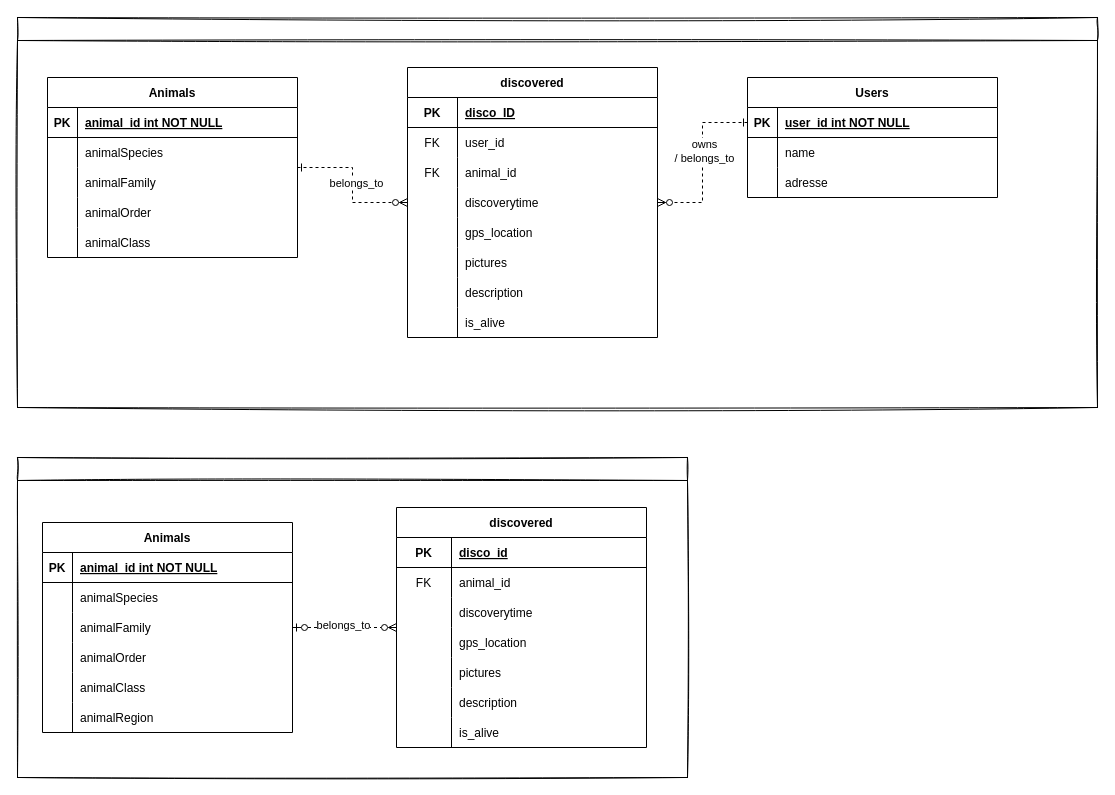
The diagram is 1115 pixels wide and 795 high, and some of its shapes have lost their labels. The box of each missing label's shape, as (x1, y1, x2, y2) in pixels:
Backend Datenmodell: (16, 16, 1098, 408)
Device Datenmodell: (16, 456, 688, 778)
